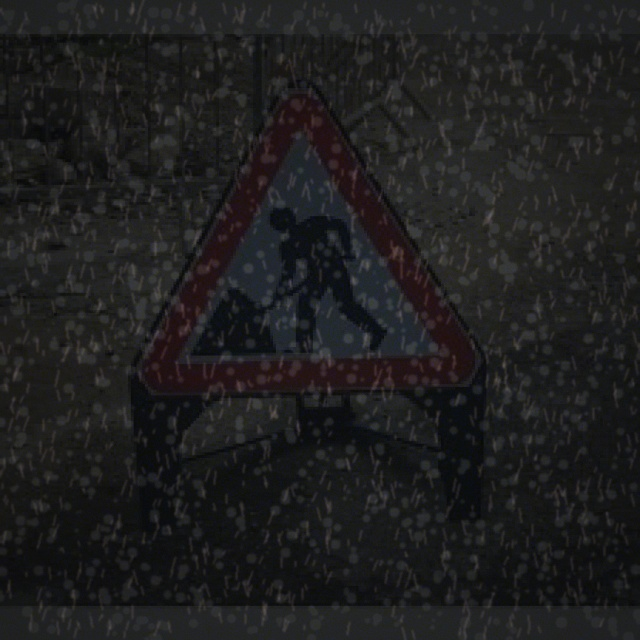Men_at_Work: (129, 77, 485, 390)
